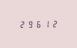nine: (26, 20, 33, 28)
one: (42, 19, 49, 27)
six: (34, 20, 41, 27)
two: (18, 20, 25, 28), (50, 19, 57, 27)
